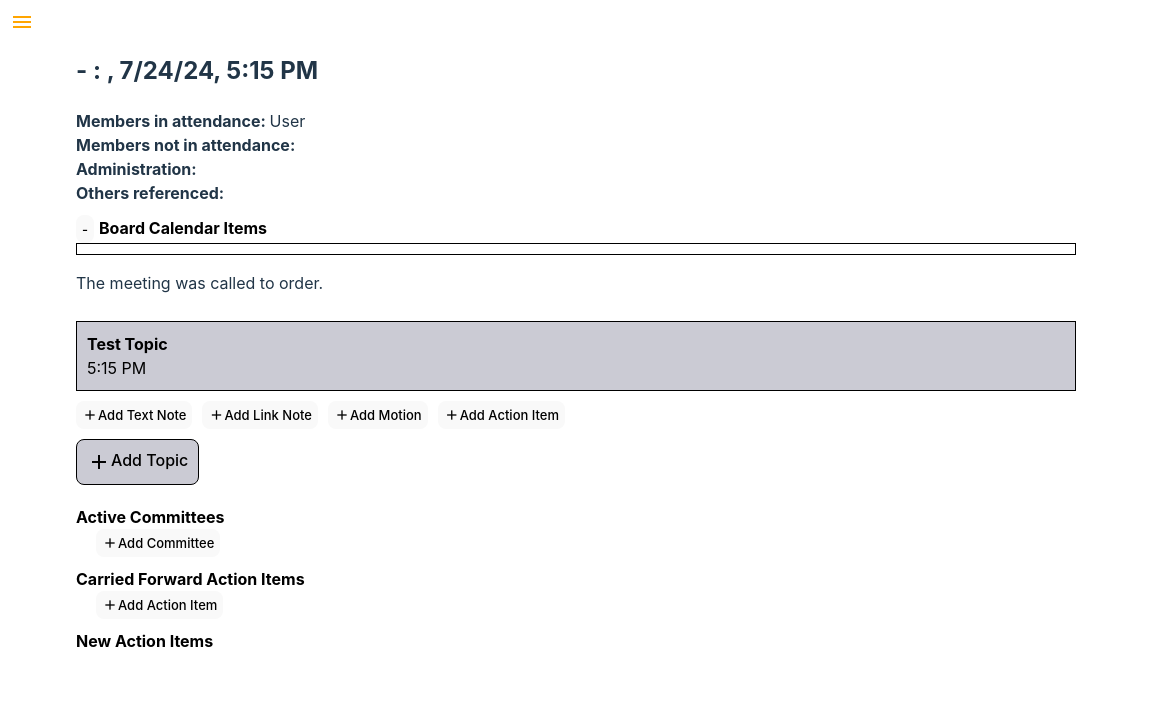
Test: action items › shows an error message if the new action item does not have text
This screenshot has width=1152, height=720.
Click the 1st button "Add Action Item" at (501, 415), box 438,401 -> 565,429
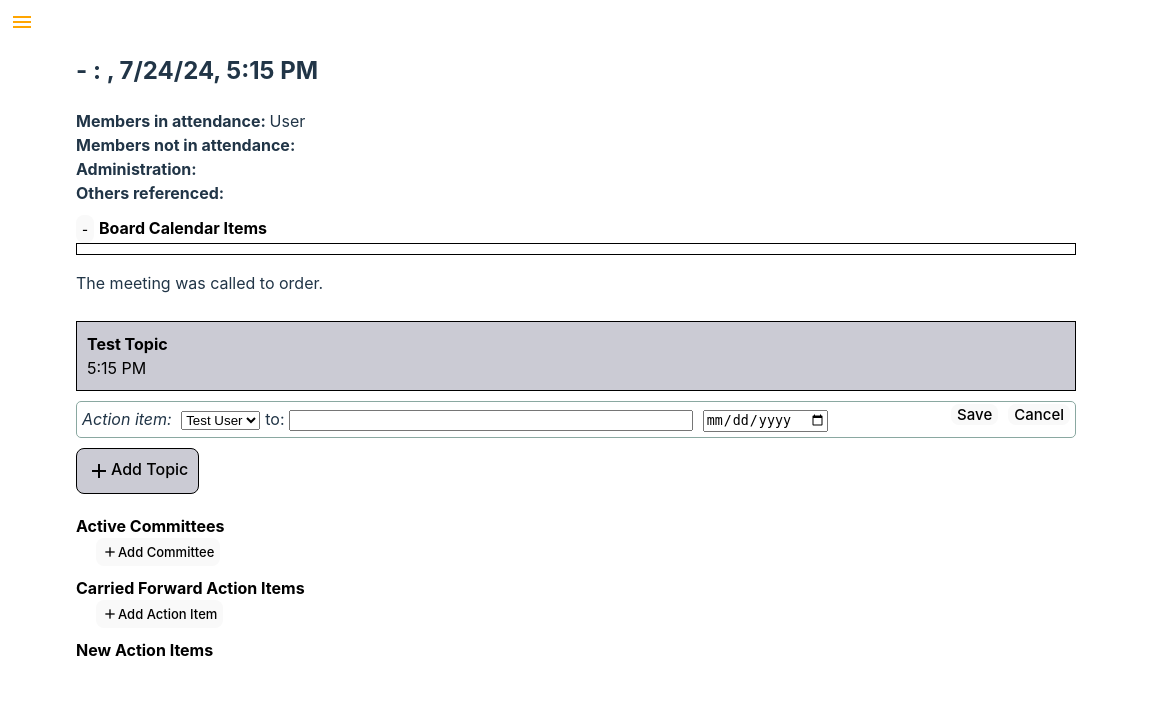
Select "Test User" in the dropdown named "Assignee" at (221, 421), box 181,411 -> 260,430
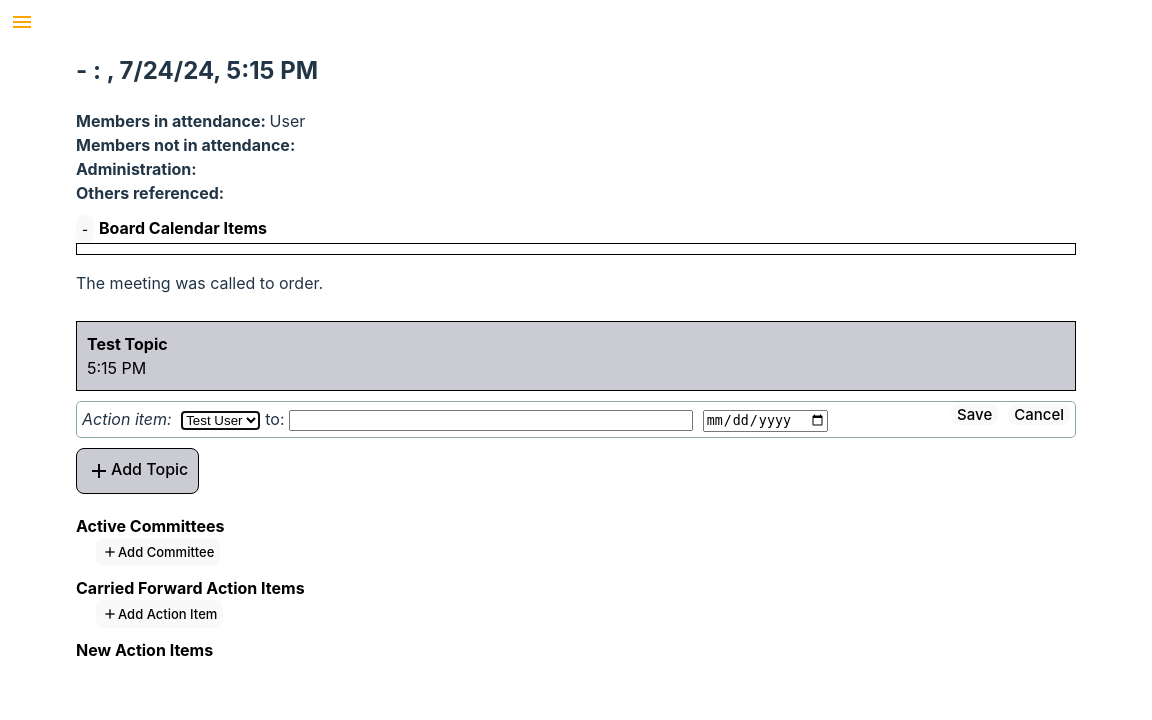
Type "2022-01-01" into the date field named "Action item due date" at (765, 421), box 703,410 -> 828,432
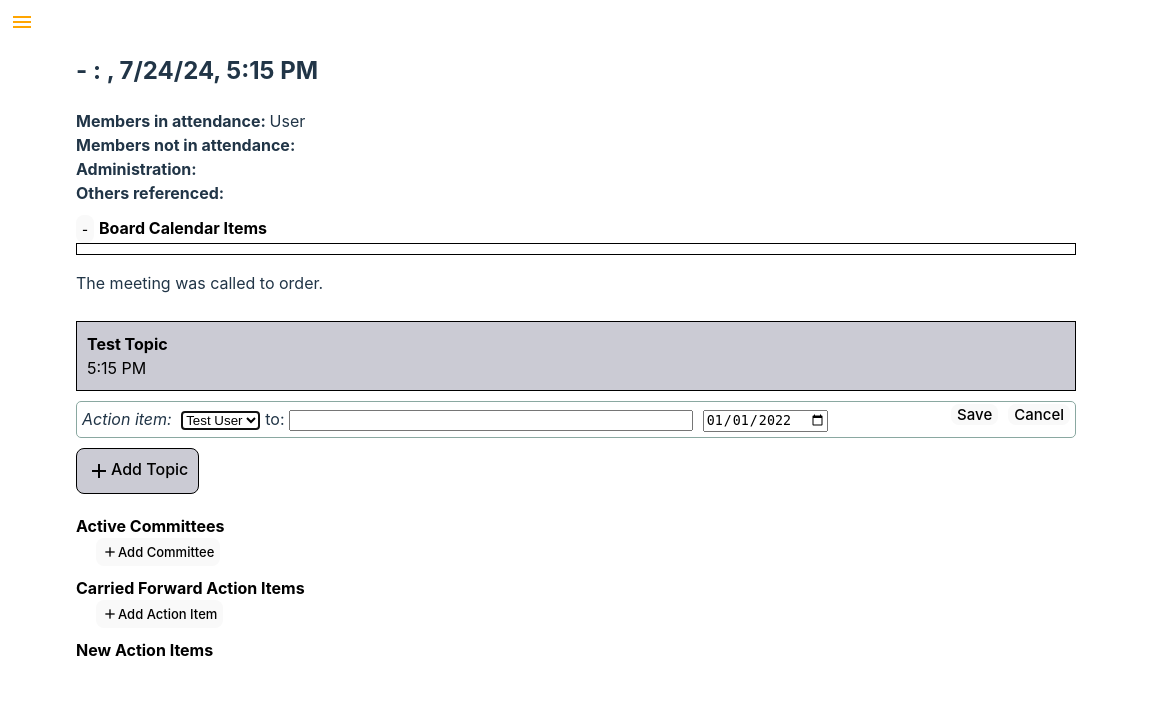
Click the button "Save" at (975, 415), box 951,404 -> 998,425
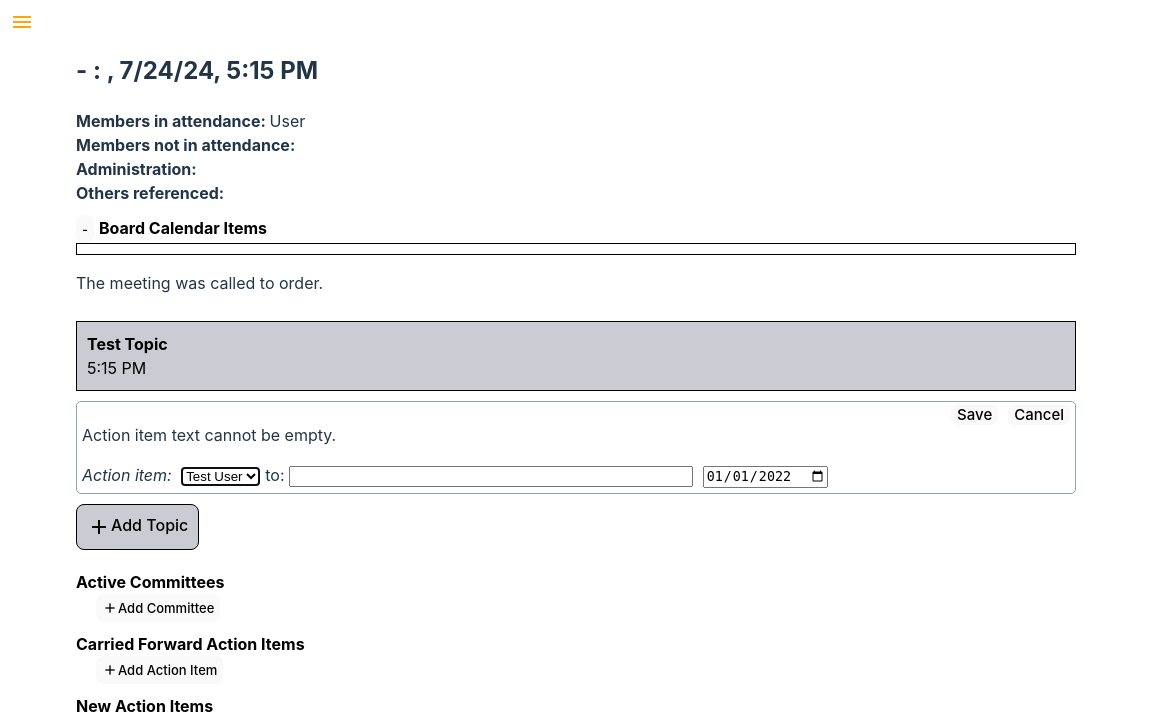
Result: the message reads "Action item text cannot be empty." at 82,425 -> 336,445
